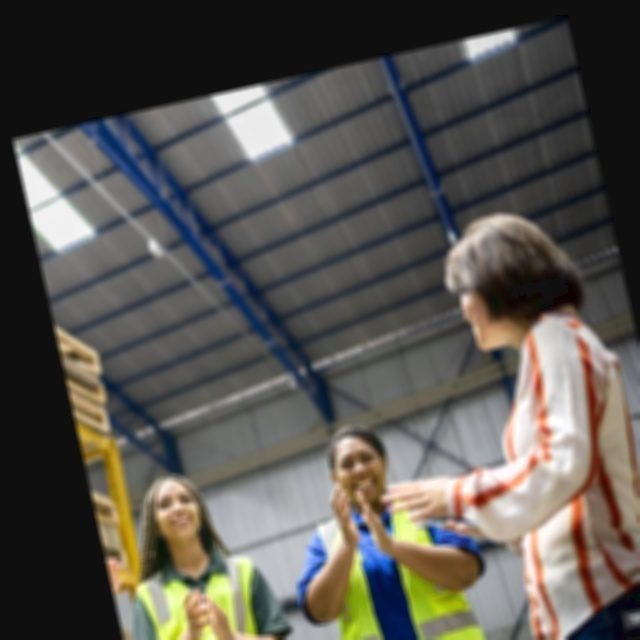Con_Chaleco: (299, 483, 490, 640), (119, 542, 291, 640)
Sin_Casco_Mascarrilla: (434, 201, 581, 361), (135, 469, 216, 565), (320, 417, 396, 515)
Sin_Chaleco: (462, 303, 640, 640)
